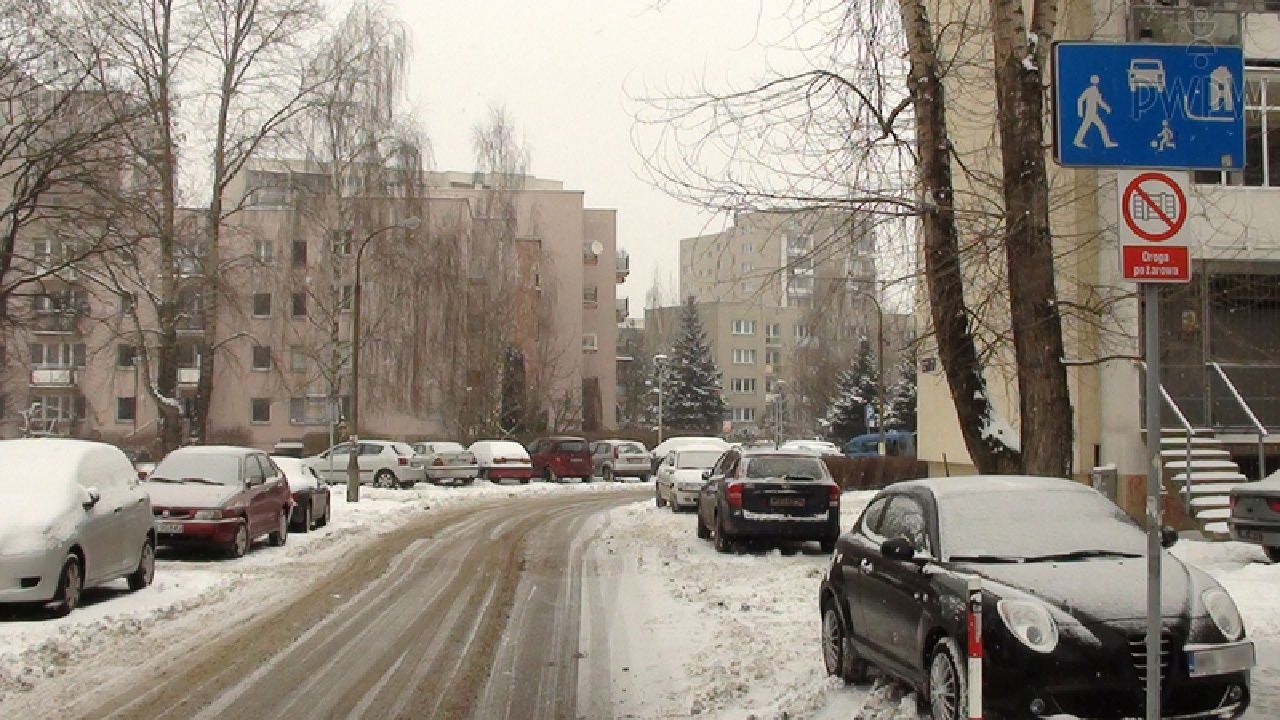D40: (1052, 39, 1246, 173)
